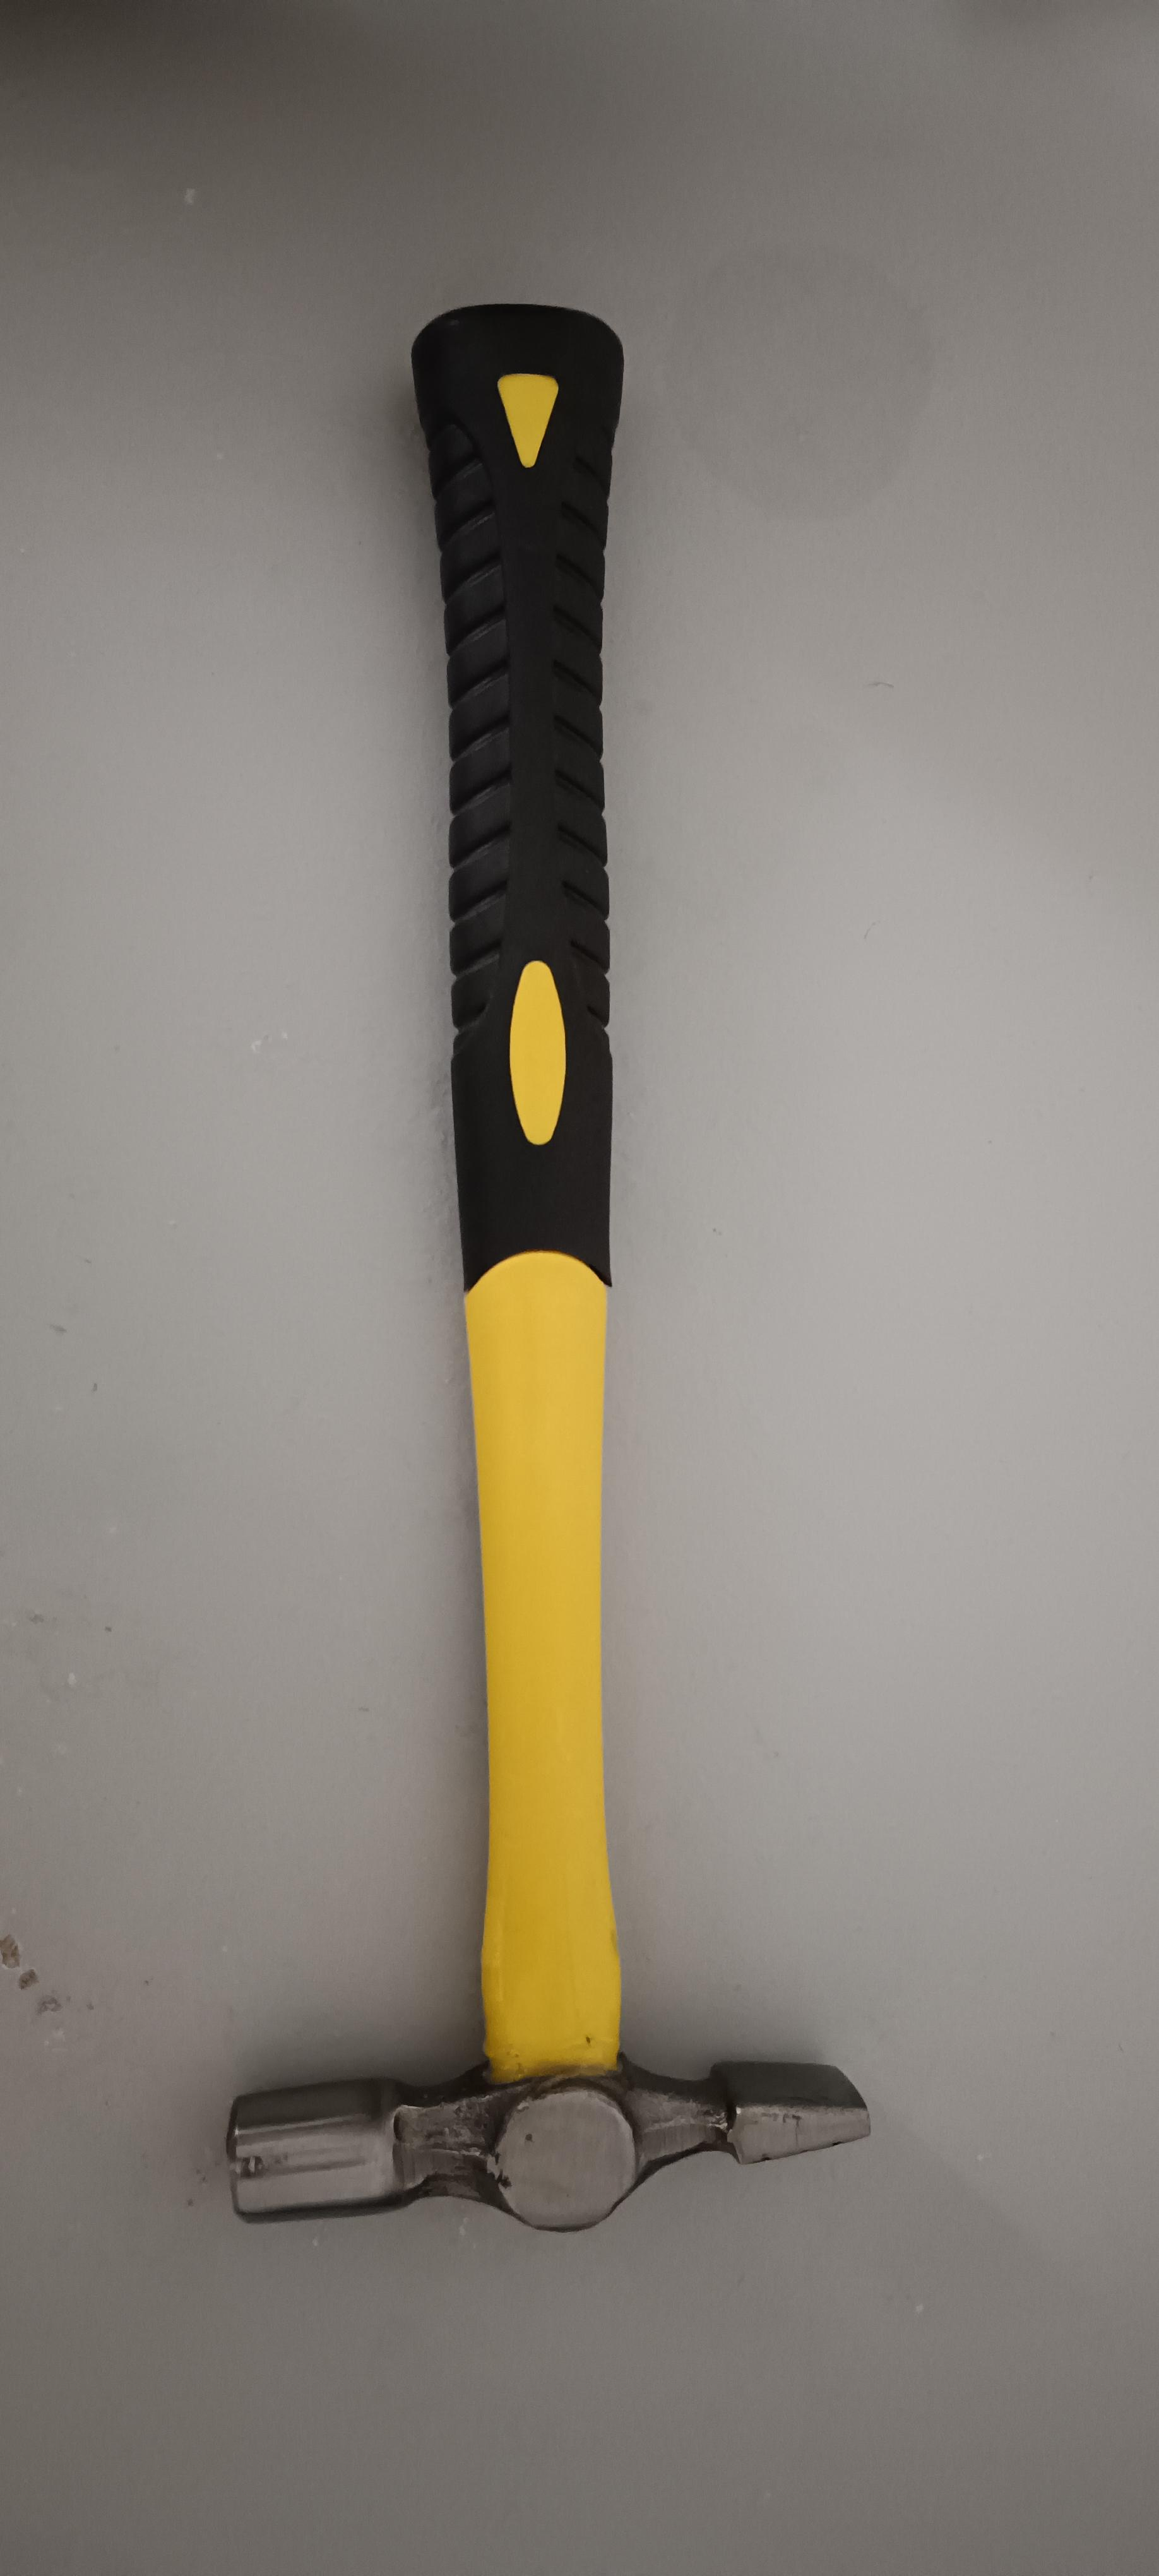Hammers: (184, 250, 909, 2247)
